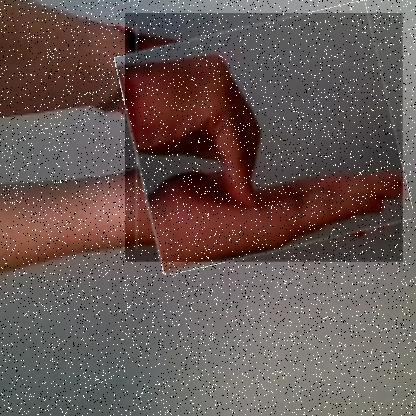Z: (125, 13, 404, 263)
